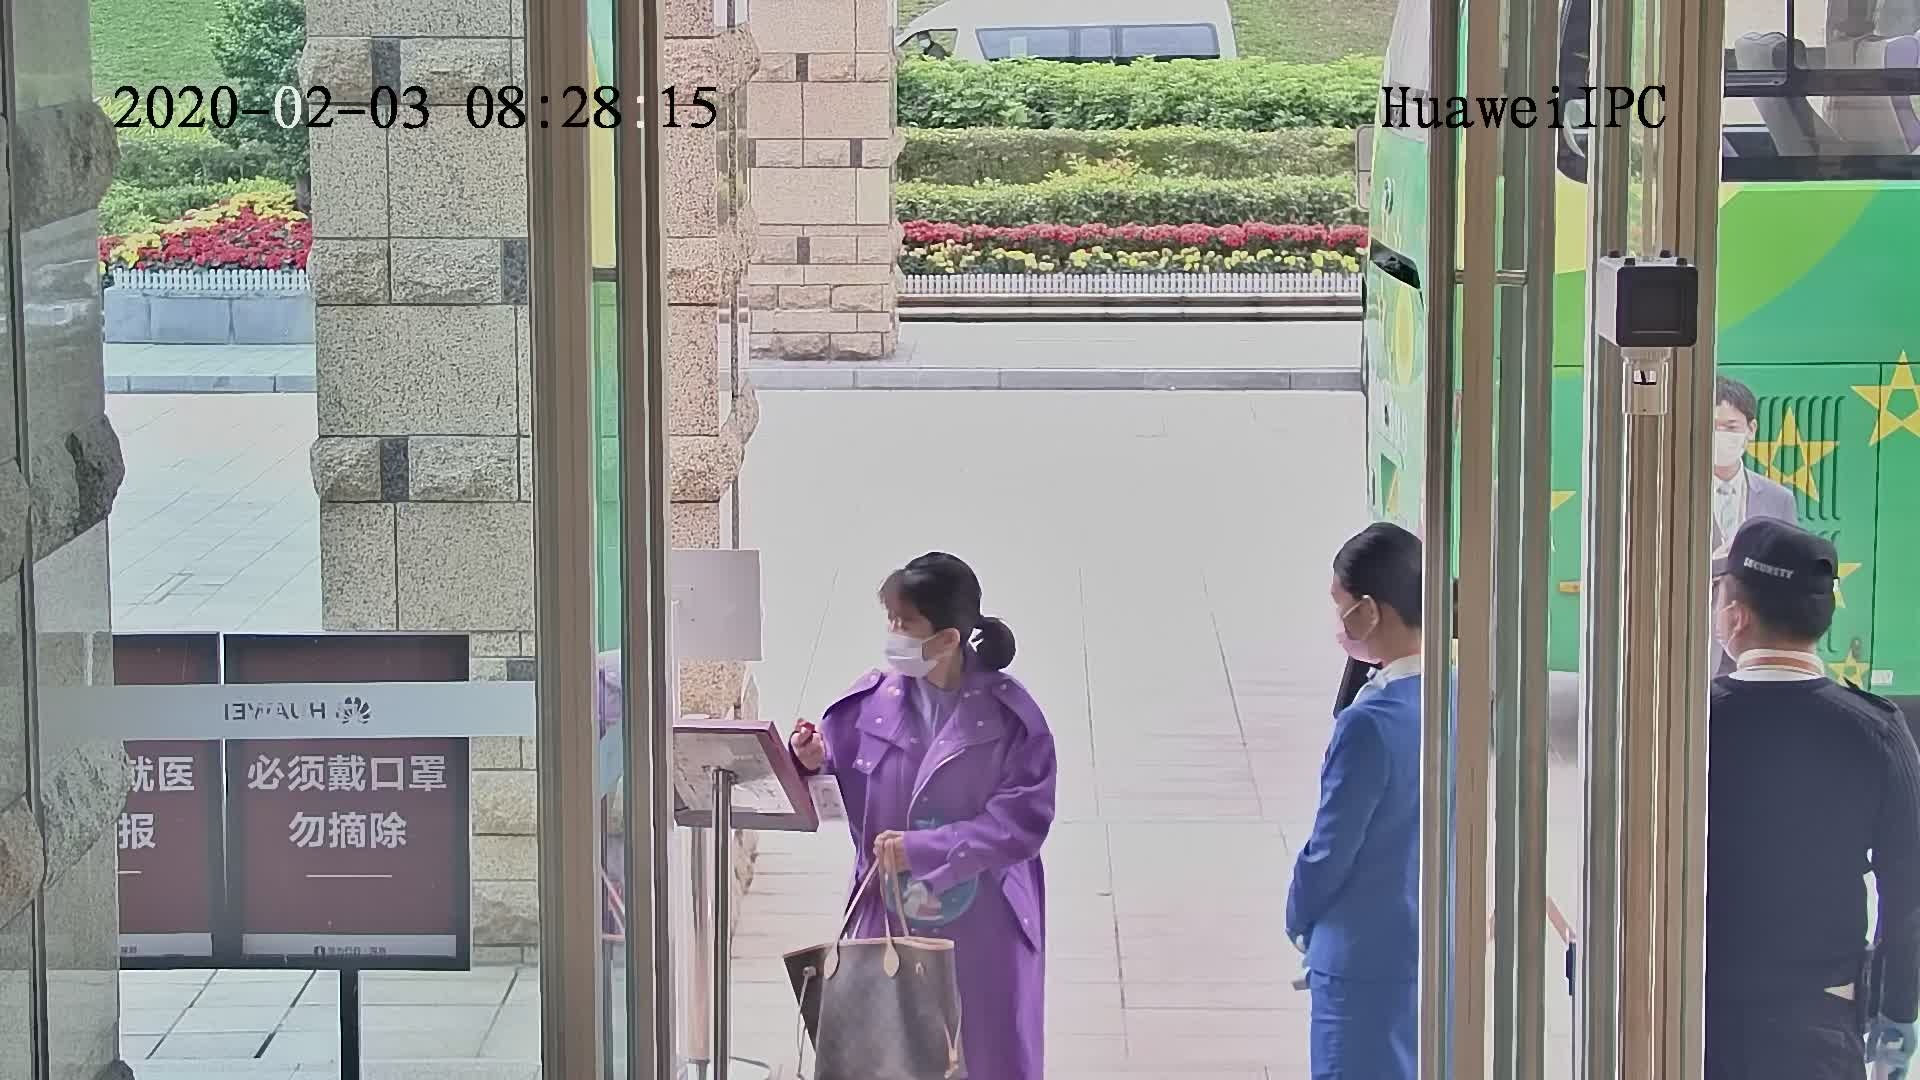face: (878, 595, 947, 680), (1714, 400, 1749, 478)
mask: (874, 633, 940, 680), (1711, 426, 1747, 478)
person: (1705, 510, 1902, 782), (839, 543, 1047, 759), (1324, 514, 1449, 772), (1704, 379, 1788, 515)
